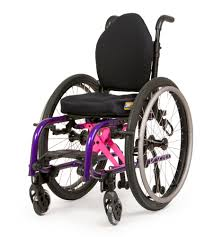wheelchair: (23, 13, 195, 224)
